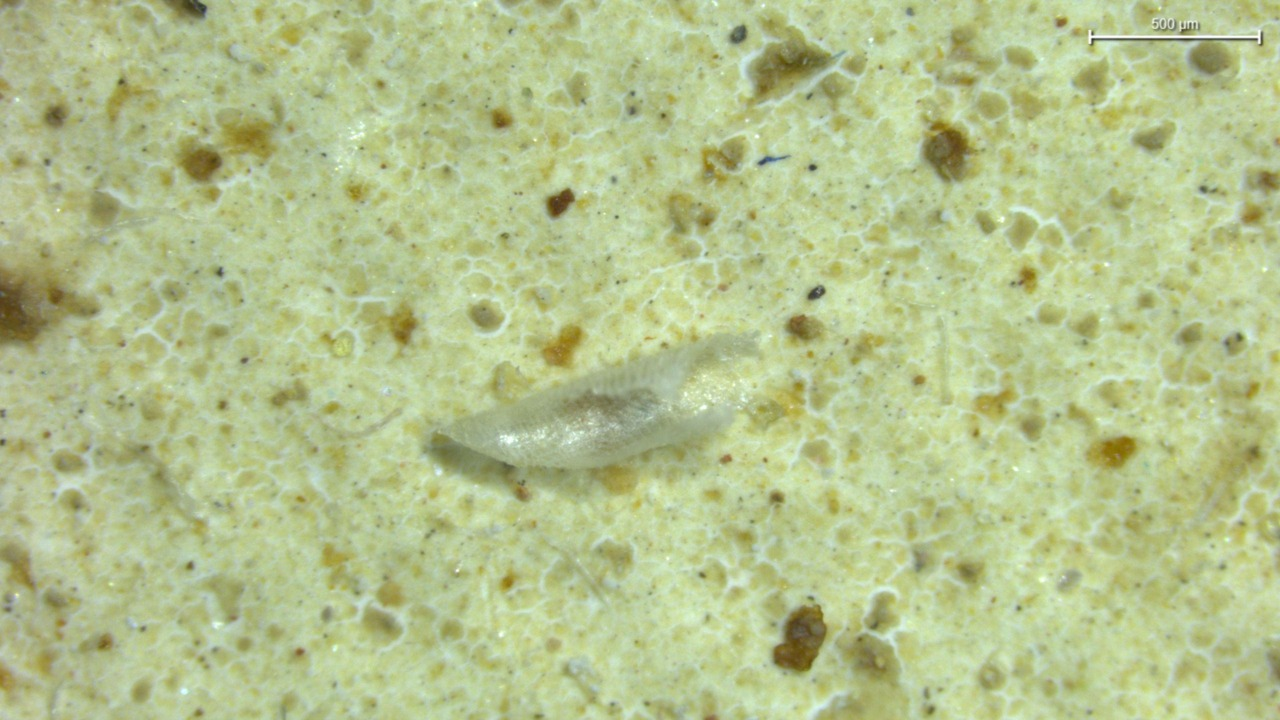microplastic_fragment: (438, 332, 760, 468)
